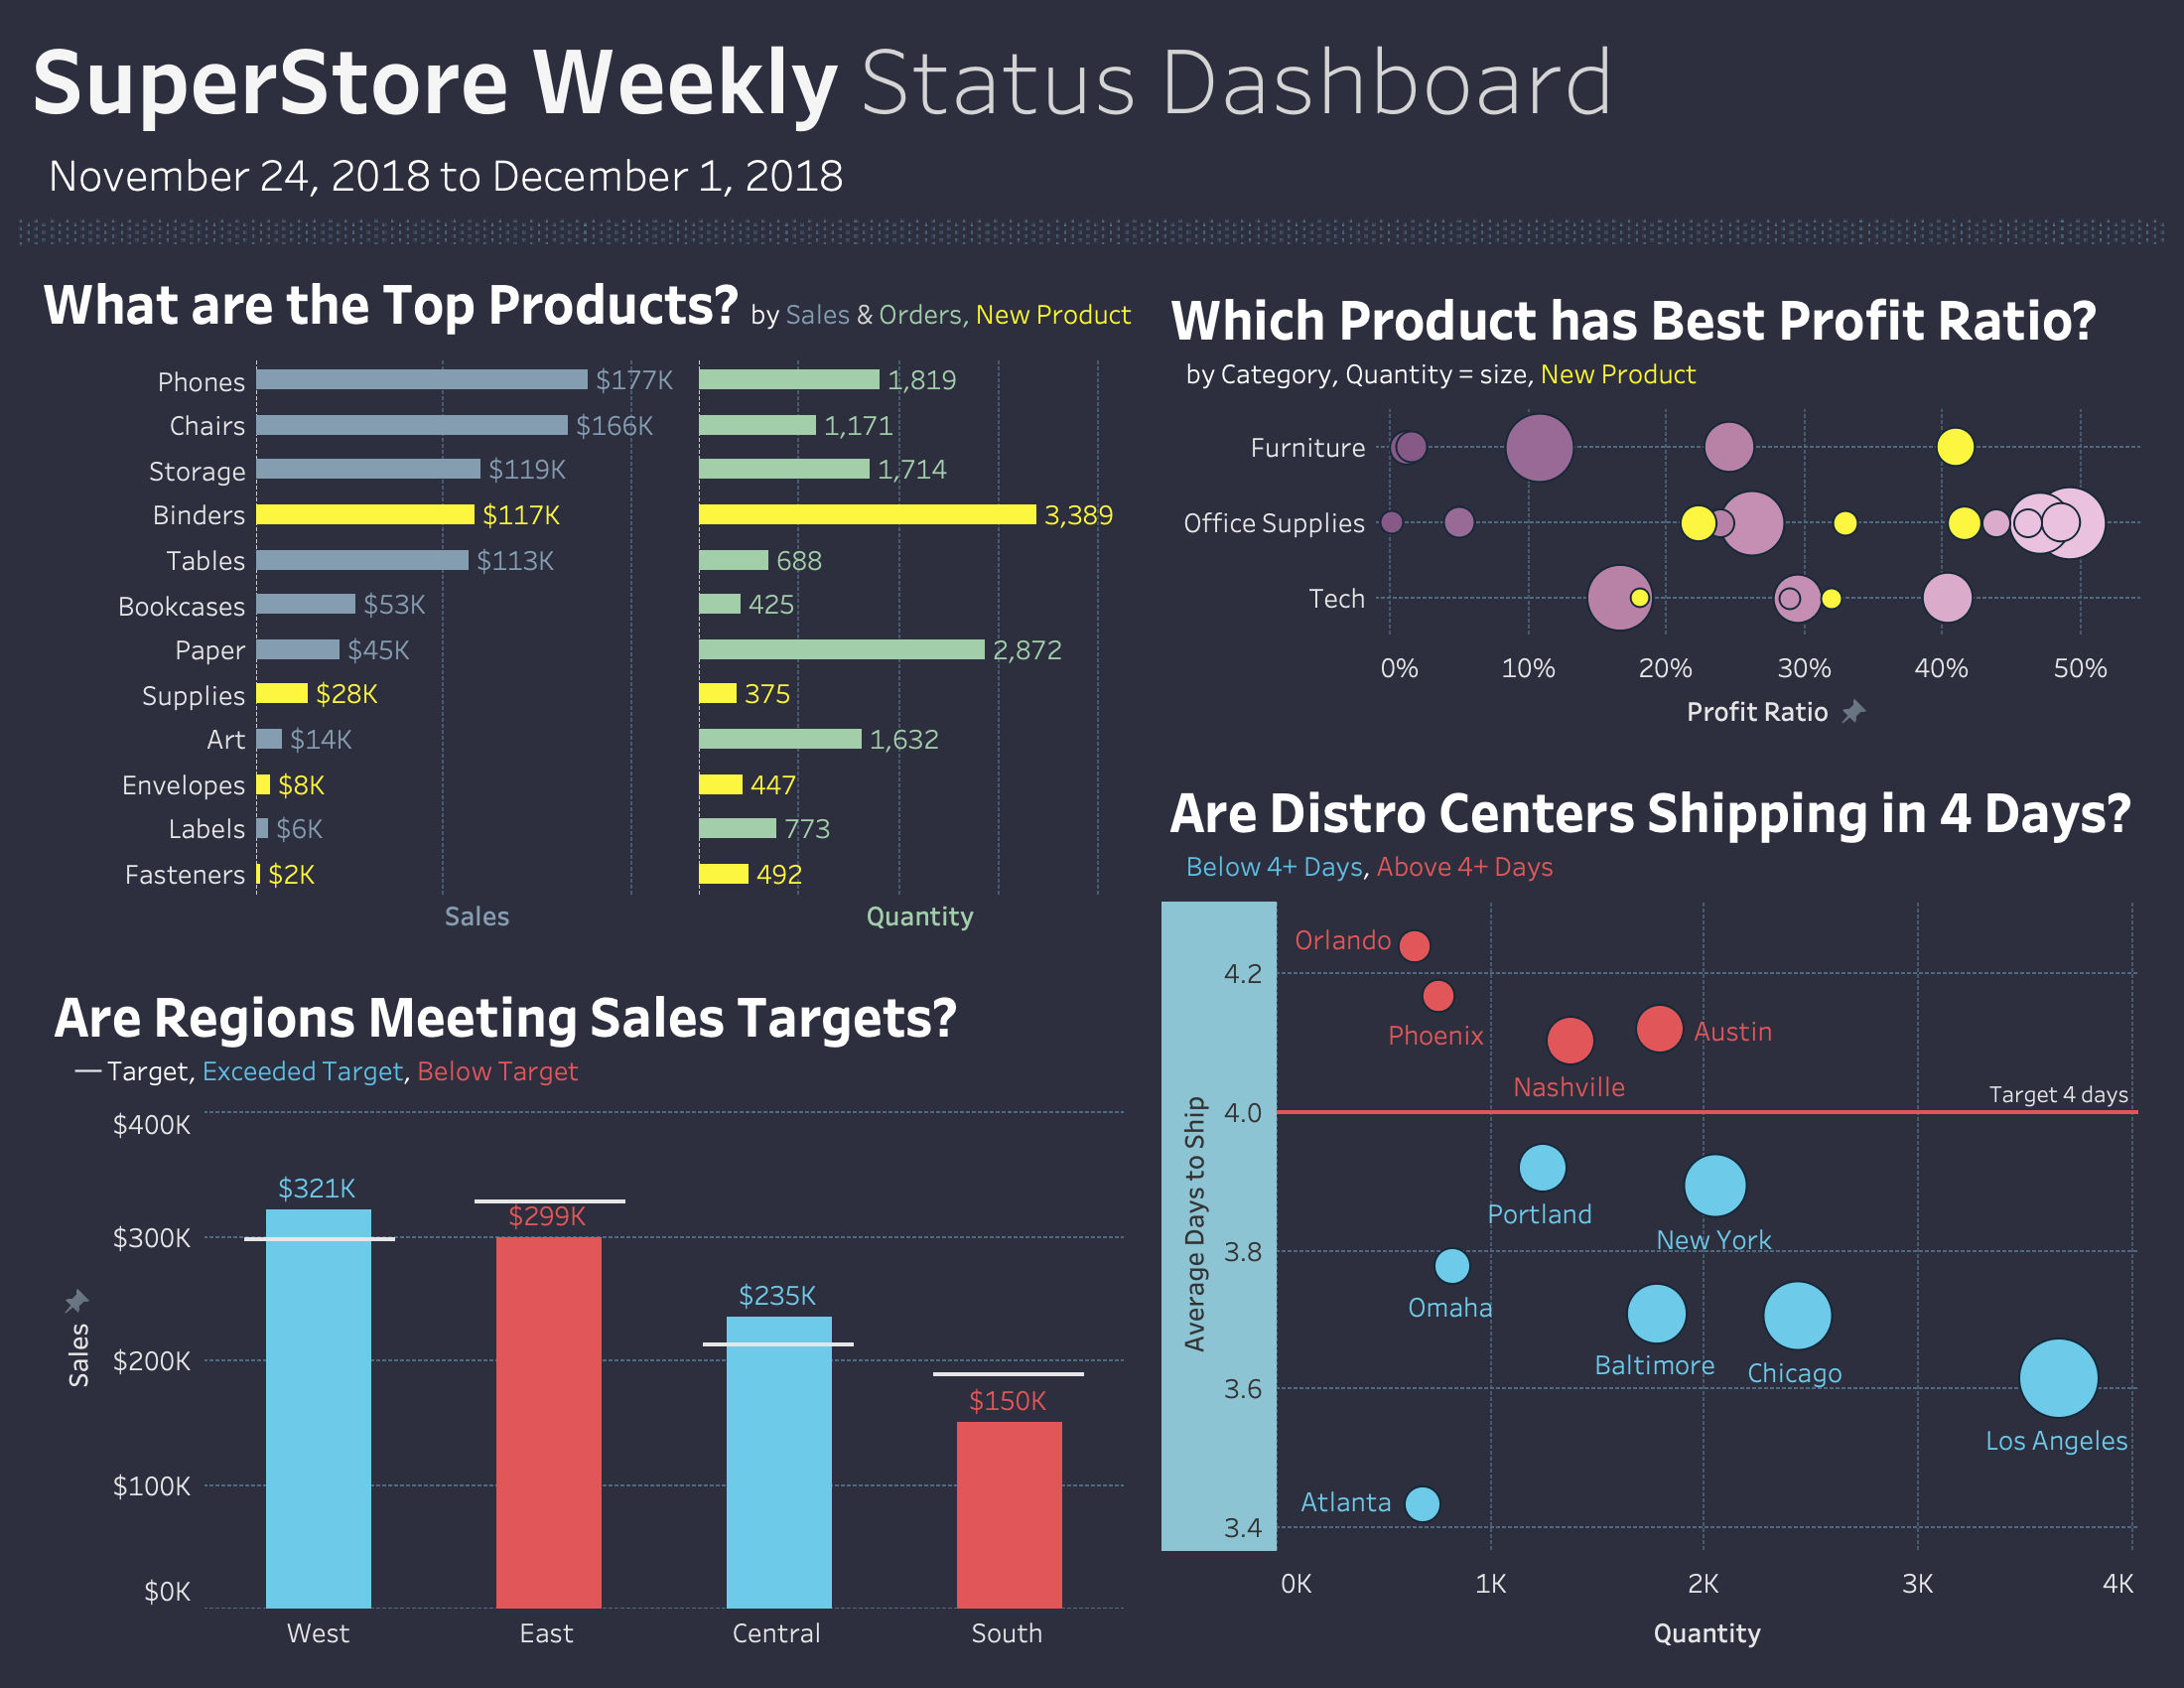

Layout of this report page (visuals, bound fields, positions):
{"tool":"tableau","page":{"name":"3 Q&A Dashboard","canvas":[1100,850],"ordinal":2},"visuals":[{"type":"text","box":[8,8,1084,116]},{"type":"worksheet","title":"Date","mark":"Automatic","box":[20,73,584,36]},{"type":"image","param":"Image/Border5.png","box":[8,110,1083,16]},{"type":"text","box":[11,123,1083,6]},{"type":"worksheet","title":"Top Products Sales","mark":"Automatic","rows":["Sub-Category"],"cols":["Sales","Quantity"],"box":[8,124,573,359]},{"type":"worksheet","title":"Profit Ratio by Product","mark":"Circle","rows":["Category","Calculation_330733113630572547"],"cols":["Calculation_5571209093911105"],"box":[581,124,511,256]},{"type":"worksheet","title":"Distro Center","mark":"Circle","rows":["Days to Ship  (copy)"],"cols":["Quantity"],"box":[581,380,511,462]},{"type":"worksheet","title":"Regional Sales","mark":"Bar","rows":["Sales","Calculation_97390360428867587"],"cols":["Region"],"box":[8,483,573,359]}]}

Visuals, with their boxes in screenshot pixels (x1, y1, x2, y2), scaled from the page's 1100x850 canvas onto the 2184x1688 screenshot:
text: box=[16, 16, 2168, 246]
"Date" worksheet: box=[40, 145, 1199, 216]
image: box=[16, 218, 2166, 250]
text: box=[22, 244, 2172, 256]
"Top Products Sales" worksheet: box=[16, 246, 1154, 959]
"Profit Ratio by Product" worksheet (Circle marks): box=[1154, 246, 2168, 755]
"Distro Center" worksheet (Circle marks): box=[1154, 755, 2168, 1672]
"Regional Sales" worksheet (Bar marks): box=[16, 959, 1154, 1672]
